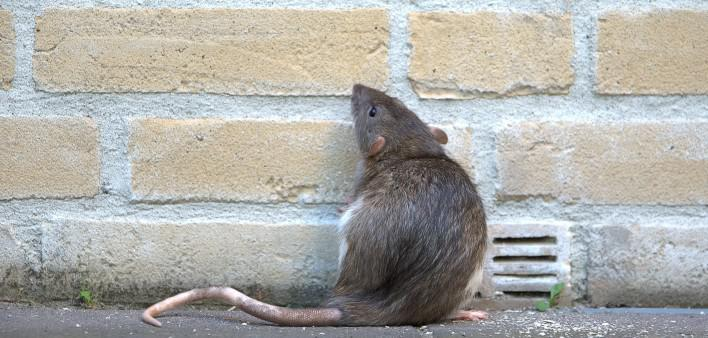rat: (140, 82, 491, 327)
